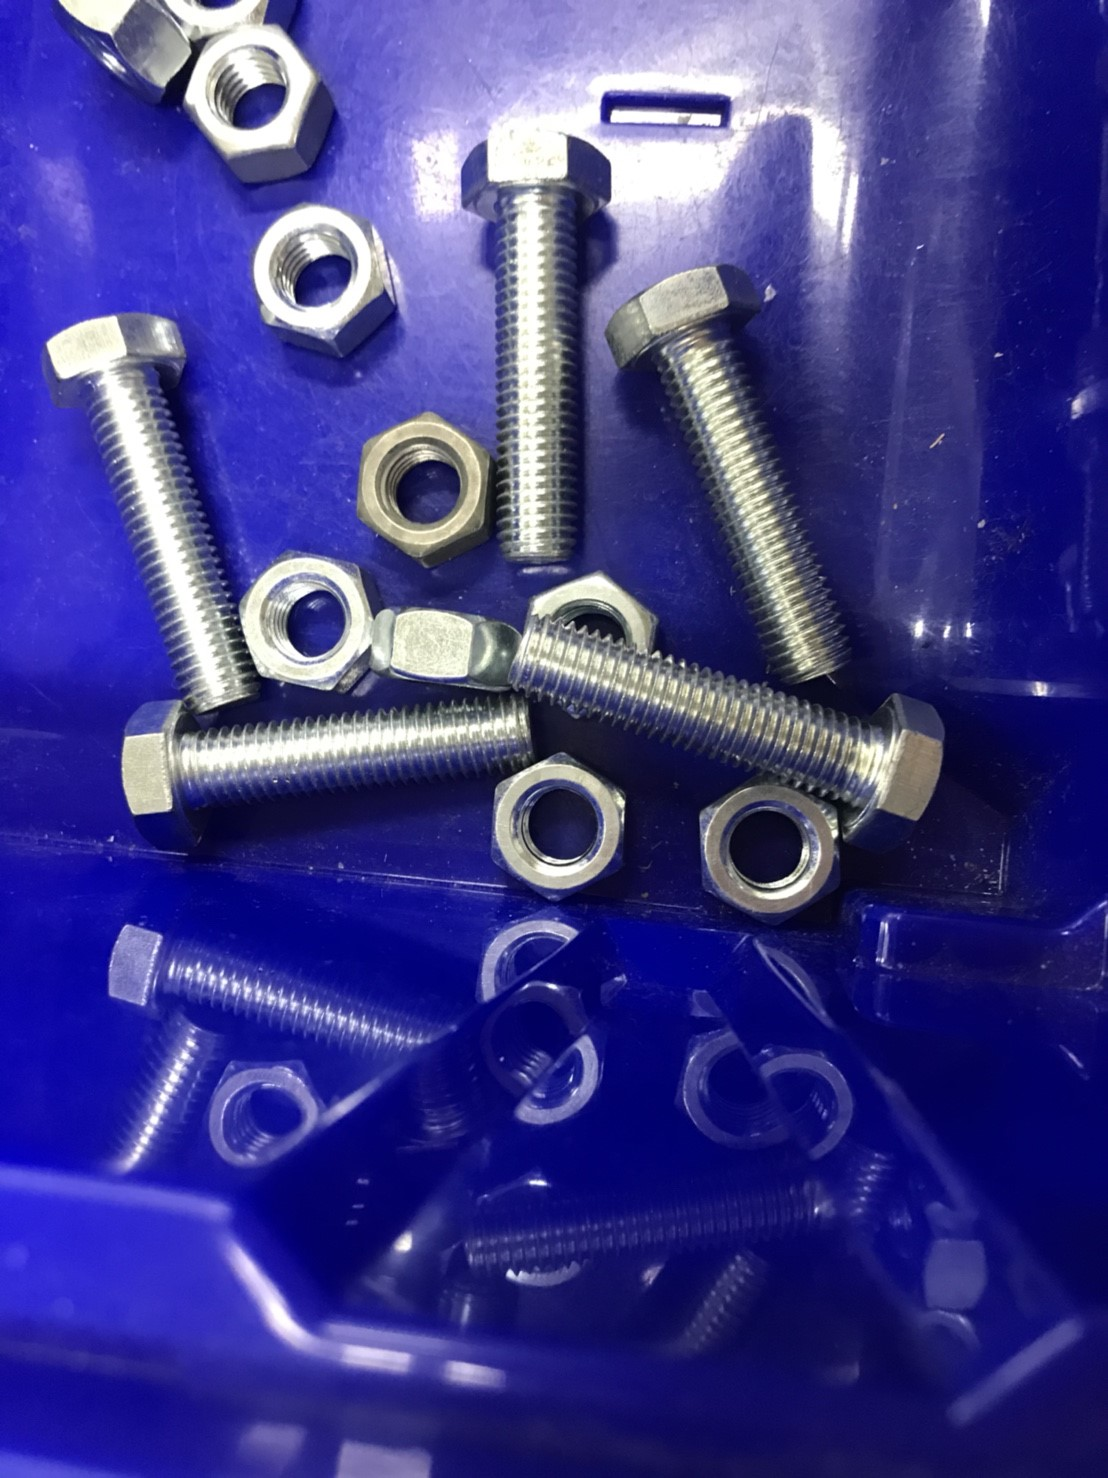nut: (179, 15, 358, 187), (679, 756, 864, 923), (230, 196, 411, 365), (484, 742, 640, 909), (345, 391, 493, 563), (232, 542, 383, 699), (523, 563, 668, 715), (364, 591, 525, 702), (59, 1, 187, 95)
screw: (606, 244, 862, 715), (502, 610, 970, 838), (28, 300, 260, 717), (104, 672, 547, 861), (463, 98, 615, 581)
